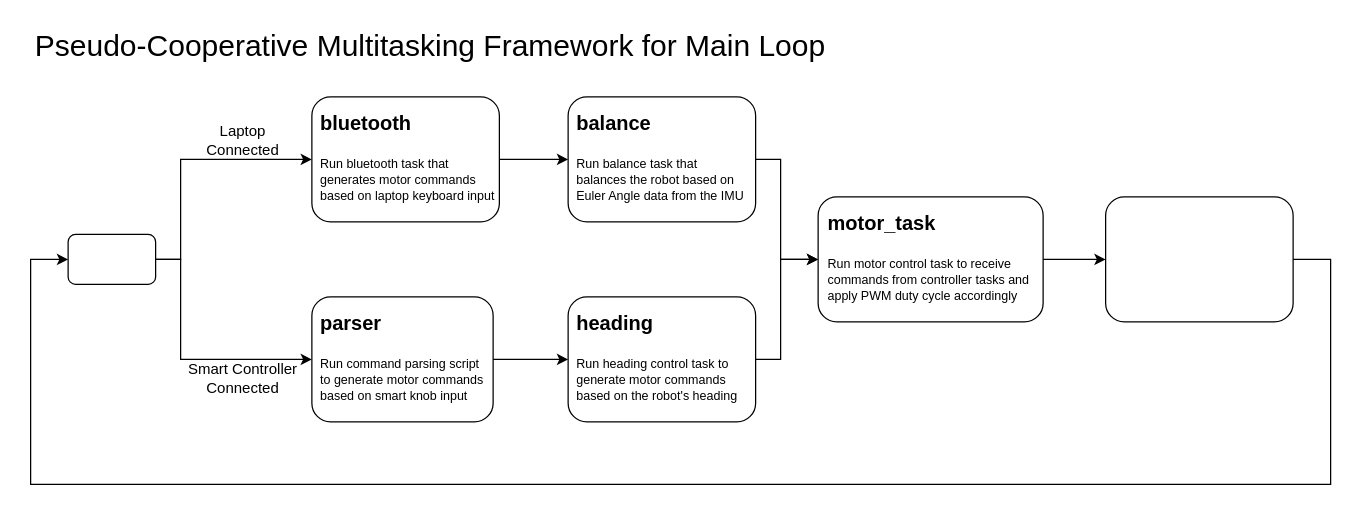
Some shapes in this 1363 by 516 pixel diagram are drawn without their labels. Here are the shapes that lost their labels. From the top down, the centre of each, then its label:
At [111,258]: "Begin".
At [1198,259]: "battery_check Run battery check task to turn on an LED when battery is too low".
